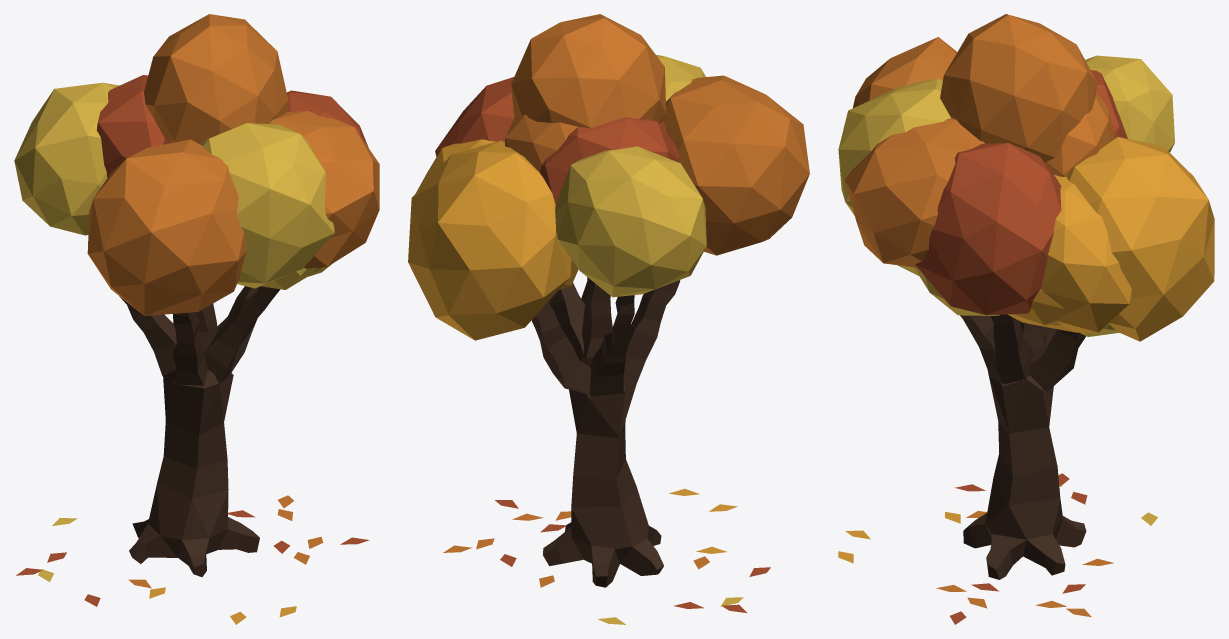
Rendered from SM_Tree_Oak_Autumn_03.glb.
3 views of the same model, side by side, from view 1: azimuth 30°, elevation 25°; view 2: azimuth 150°, elevation 25°; view 3: azimuth 270°, elevation 25° (orthographic). The views are drawn at different scales.
Parts seen in each view (by area): view 1: SM_Tree_Oak_Autumn_03; view 2: SM_Tree_Oak_Autumn_03; view 3: SM_Tree_Oak_Autumn_03.
Part boxes in pixels (x1,y1,x2,y2): SM_Tree_Oak_Autumn_03: (14,14,379,624); SM_Tree_Oak_Autumn_03: (408,14,809,624); SM_Tree_Oak_Autumn_03: (838,14,1214,624).
Size of the model in its own units: 3.25 by 5.11 by 3.21.
